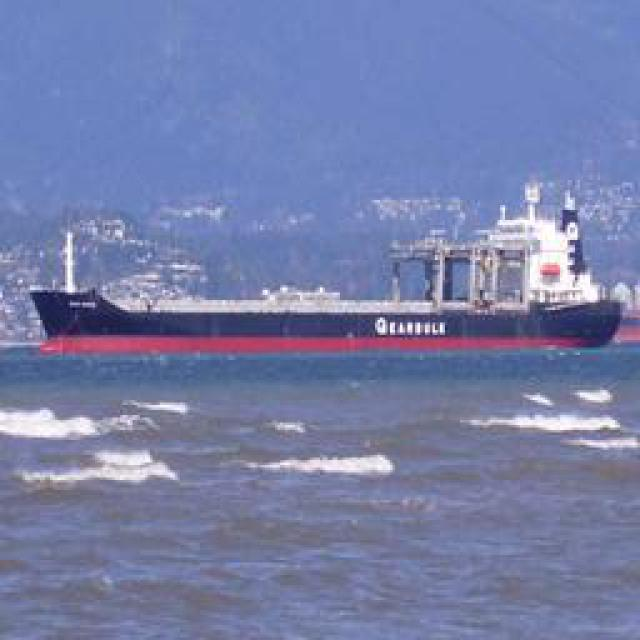Ship: (25, 218, 635, 356)
